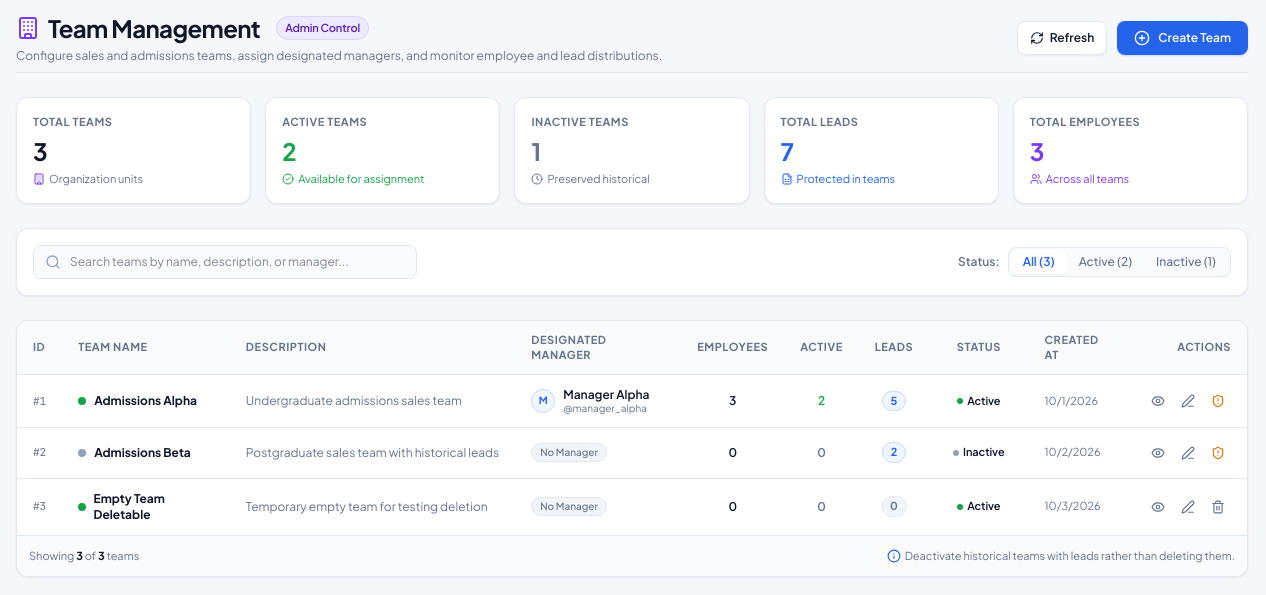
Test: Skill Move Sales CRM — Phase 4: Team Management Interface › 2. Team List & Metrics › filters teams by status (Active / Inactive)
Expected: the text "Admissions Alpha" is shown, x1=94 y1=393 x2=197 y2=409
Click Inactive filter
What coordinates should you click on to do the following:
click the button "Inactive (1)"
I would click on:
 (1186, 262)
Its box is x1=1144 y1=250 x2=1228 y2=274.
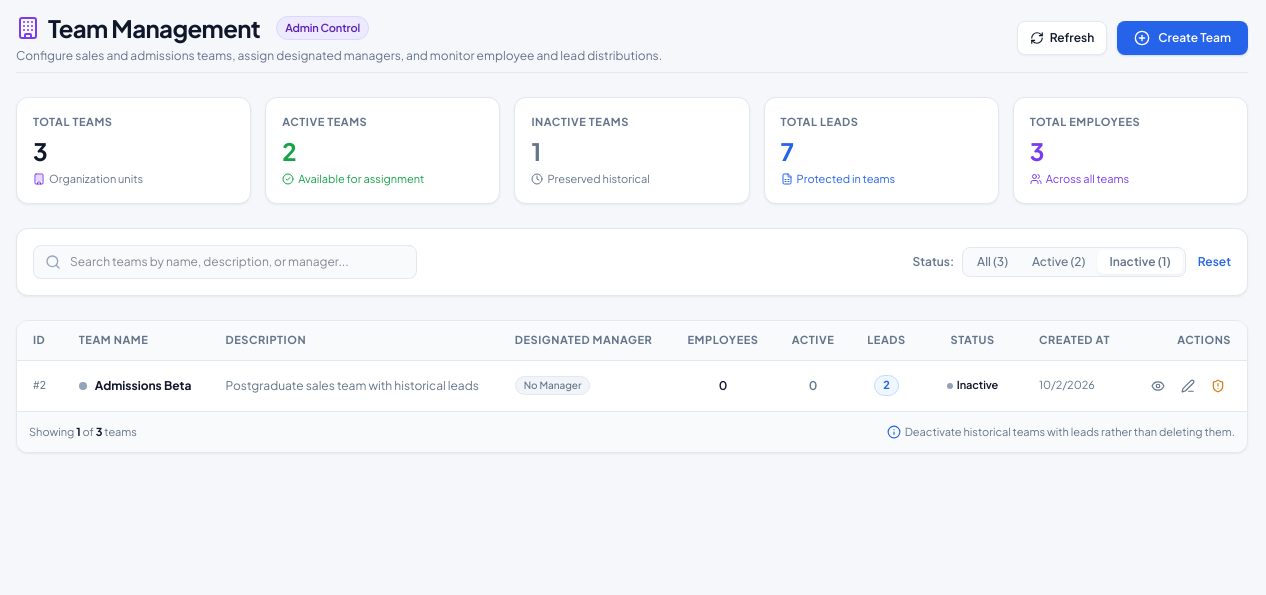
Expected: the text "Admissions Beta" is shown, x1=95 y1=378 x2=191 y2=394
Expected: the text "Admissions Alpha" is gone
